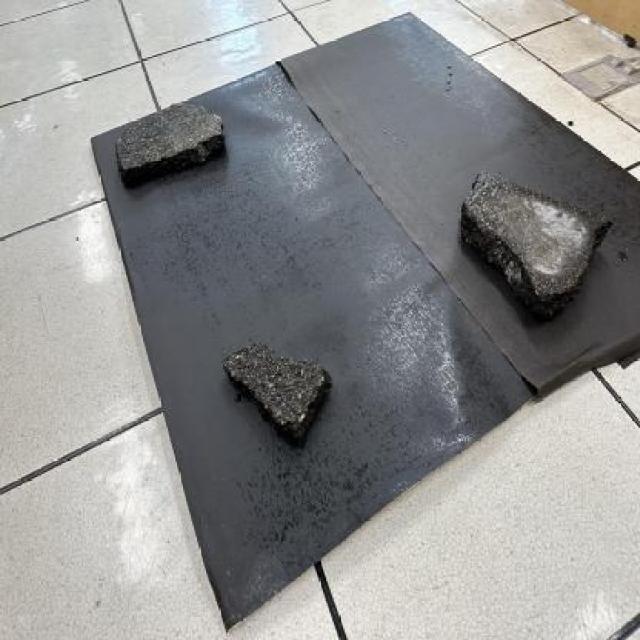Road Debris: (223, 344, 329, 438), (117, 99, 226, 159), (460, 175, 532, 258)
